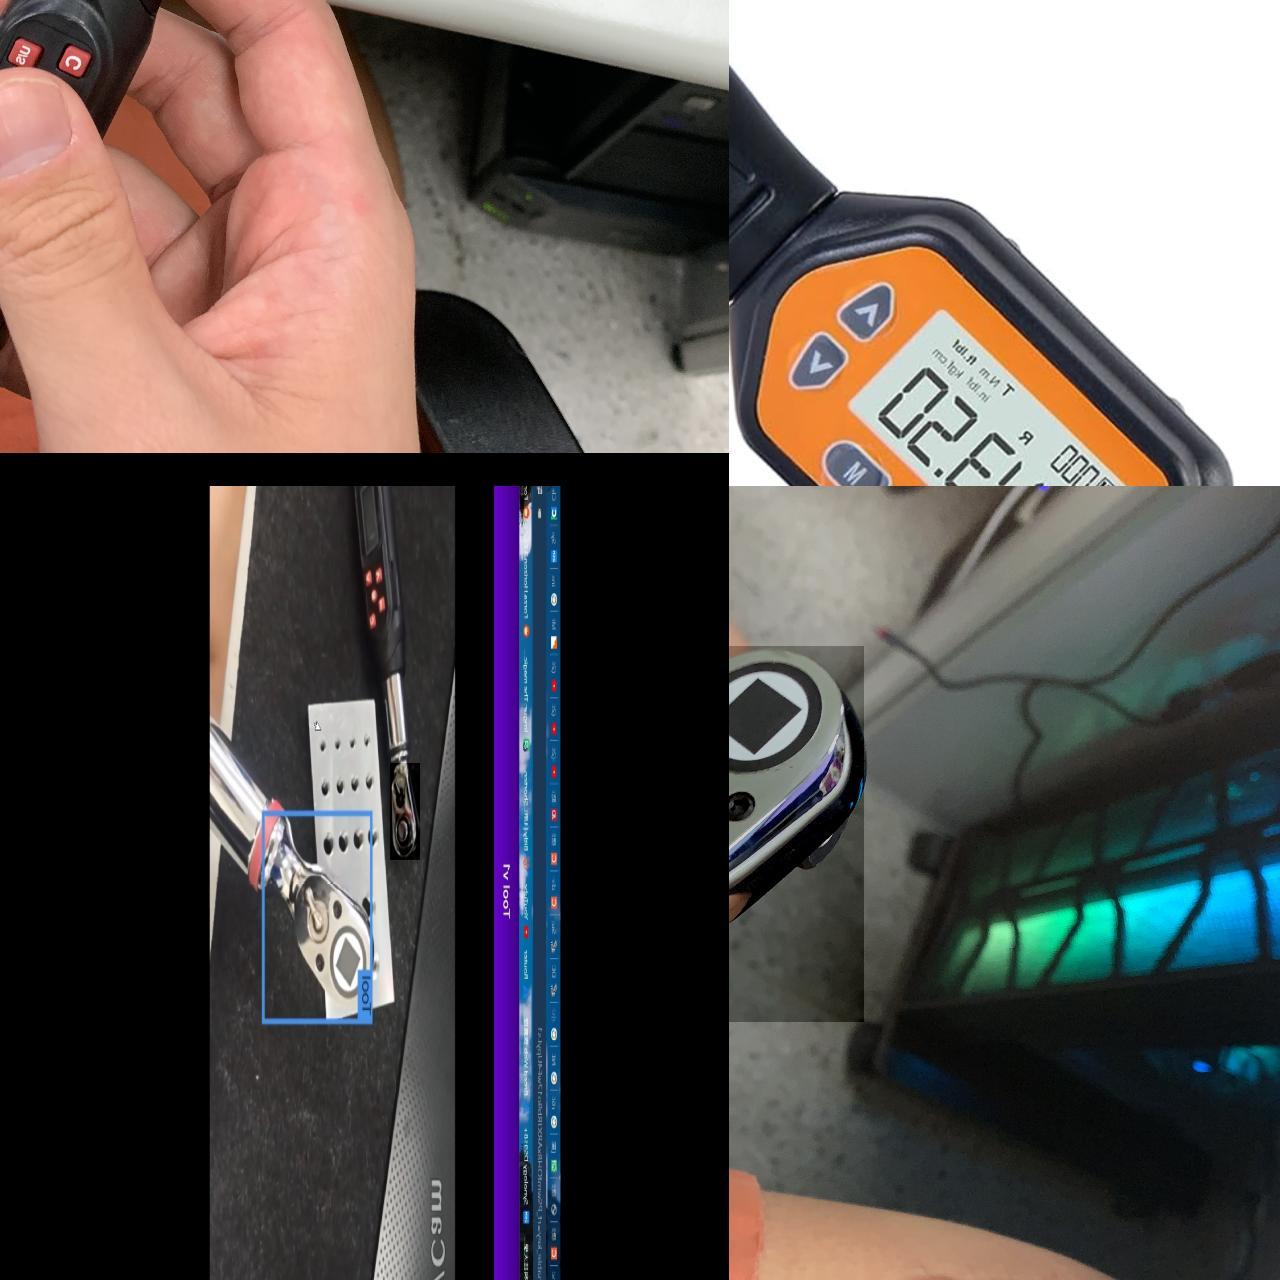Tool: (729, 645, 864, 1021), (390, 762, 420, 859)
hole: (730, 784, 756, 825), (359, 890, 375, 922), (343, 781, 368, 796), (319, 833, 338, 851), (368, 829, 381, 852), (350, 828, 363, 850), (338, 835, 349, 858), (359, 735, 374, 749), (363, 772, 377, 787), (318, 784, 332, 798), (315, 738, 329, 753), (335, 778, 345, 796), (333, 742, 343, 751), (350, 738, 356, 751)
